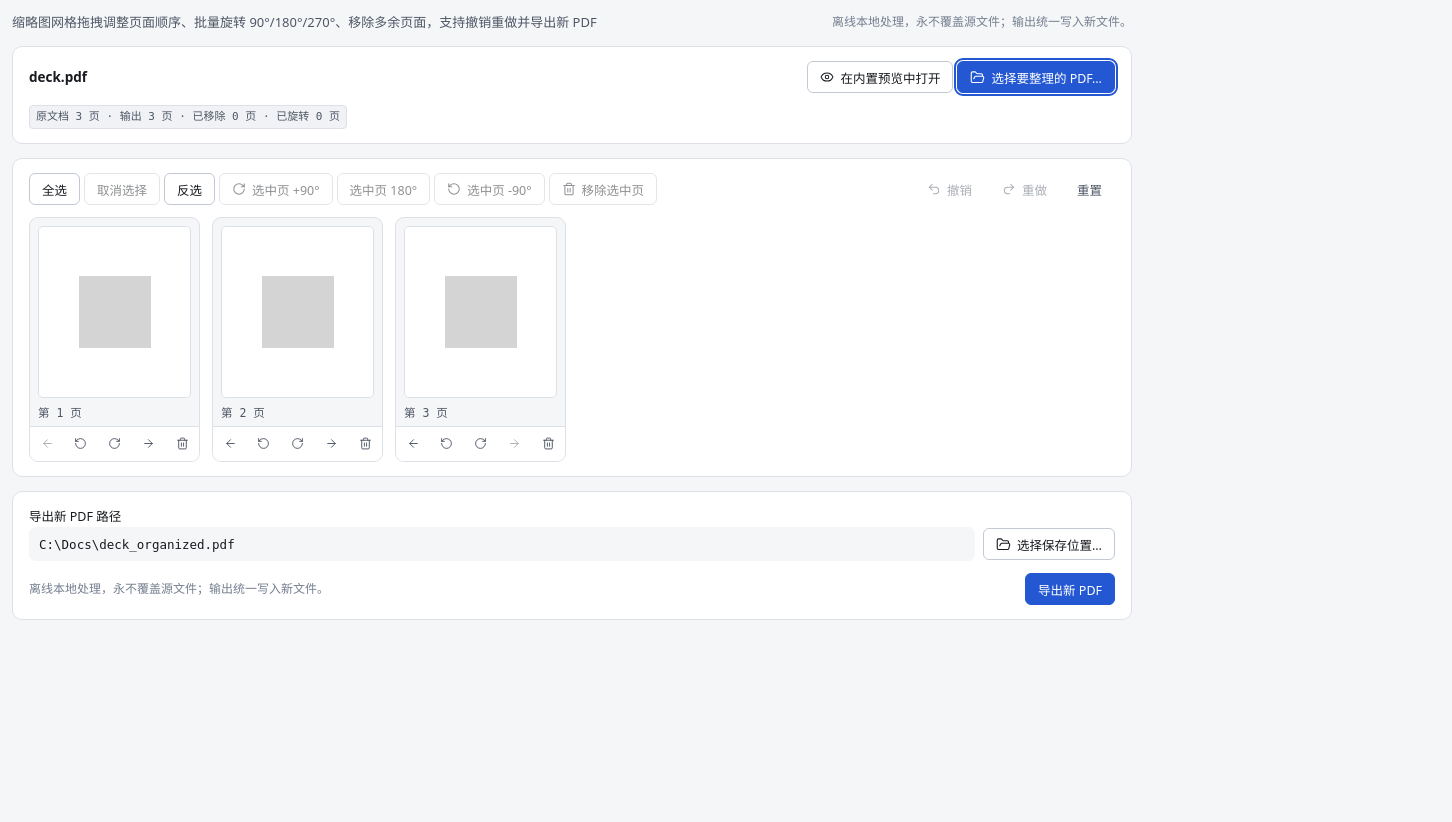
Test case: P09 PdfOrganizeWorkspace › loads pages into grid, reorders/rotates/deletes with undo/redo, and exports organized PDF
The width and height of the screenshot is (1452, 822).
Earlier steps of the test are not shown.
Expected: the list with test id "pdf-page-grid" is shown, [29, 217, 566, 462]
Move page 1 right (so order becomes [2, 1, 3]) and rotate first item +90°, delete last item
What coordinates should you click on to do the following:
click the 1st button named "后移一页"
I would click on:
 (148, 443)
Its box is [135, 430, 161, 456].
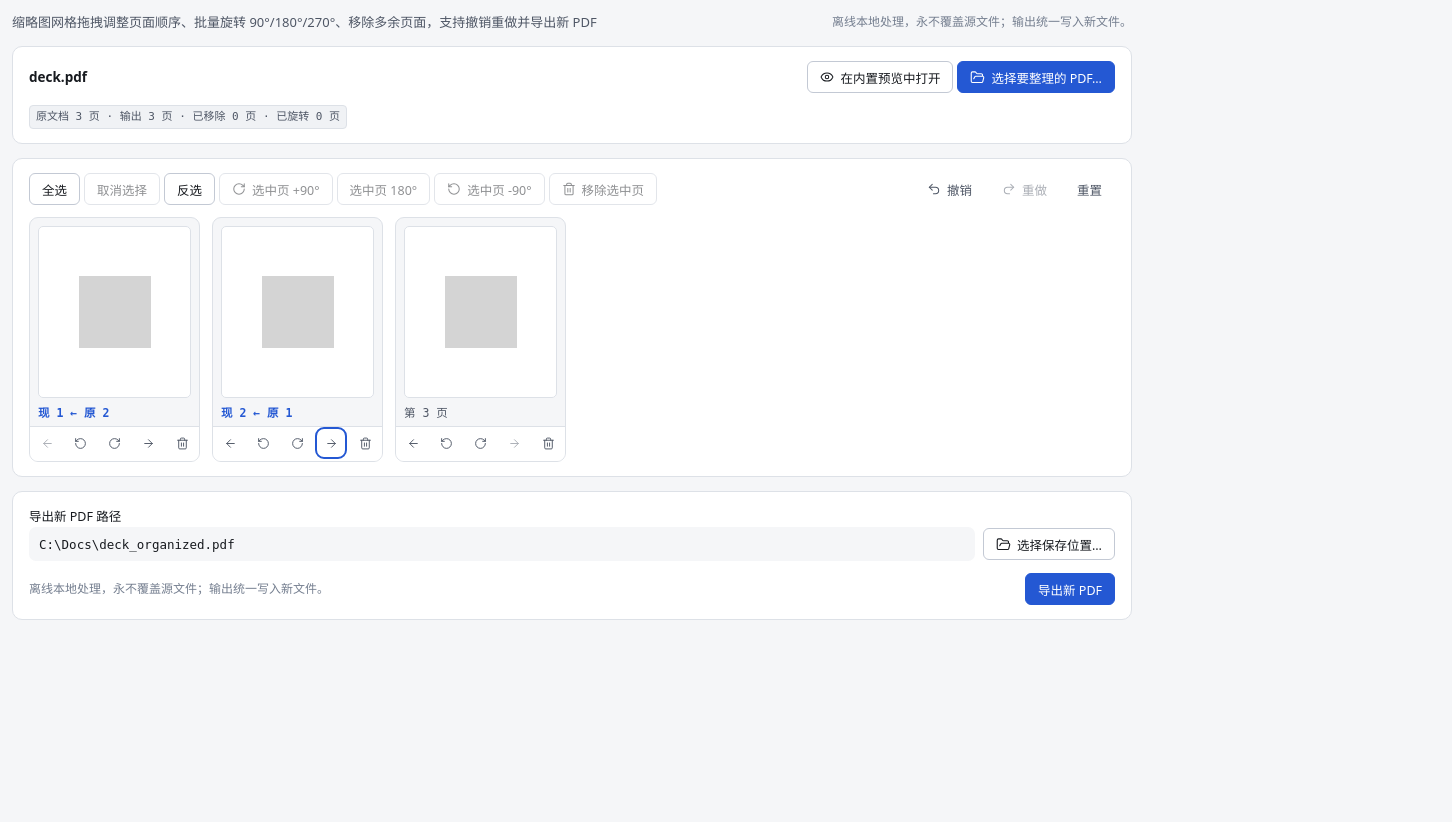
Result: the text "现 1 ← 原 2" is shown at [38, 404, 110, 420]
Undo and redo
What coordinates should you click on to do the following:
click the button "撤销"
I would click on:
 (950, 189)
Its box is [914, 173, 985, 205].
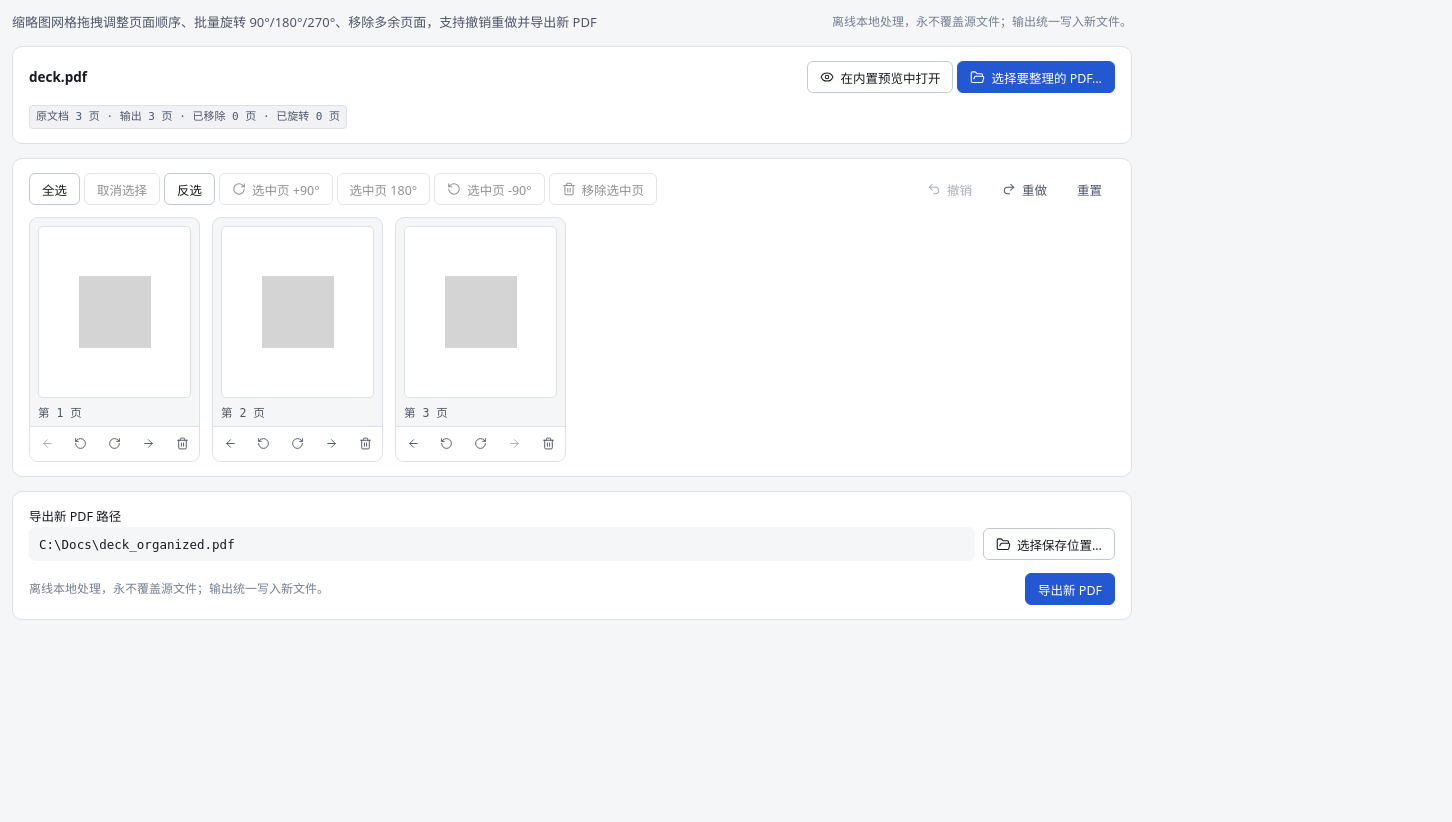
Result: the button "现 1 ← 原 2" is gone
What coordinates should you click on to do the following:
click the button "重做"
I would click on:
 (1024, 189)
Its box is [989, 173, 1060, 205].
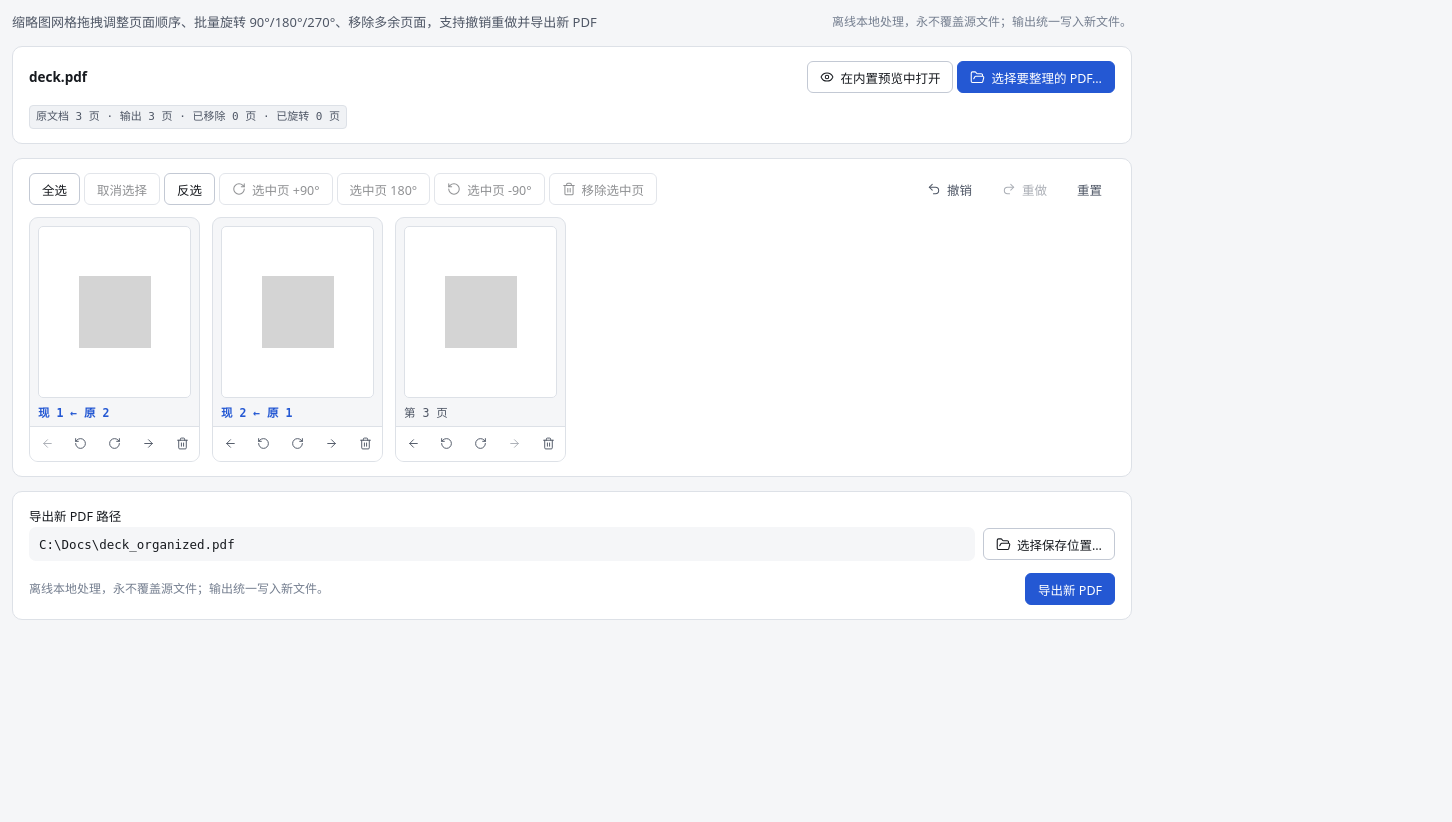
Result: the text "现 1 ← 原 2" is shown at [38, 404, 110, 420]
What coordinates should you click on to do the following:
click the 1st button named "顺时针旋转 90°"
I would click on:
 (114, 443)
Its box is [102, 430, 128, 456].
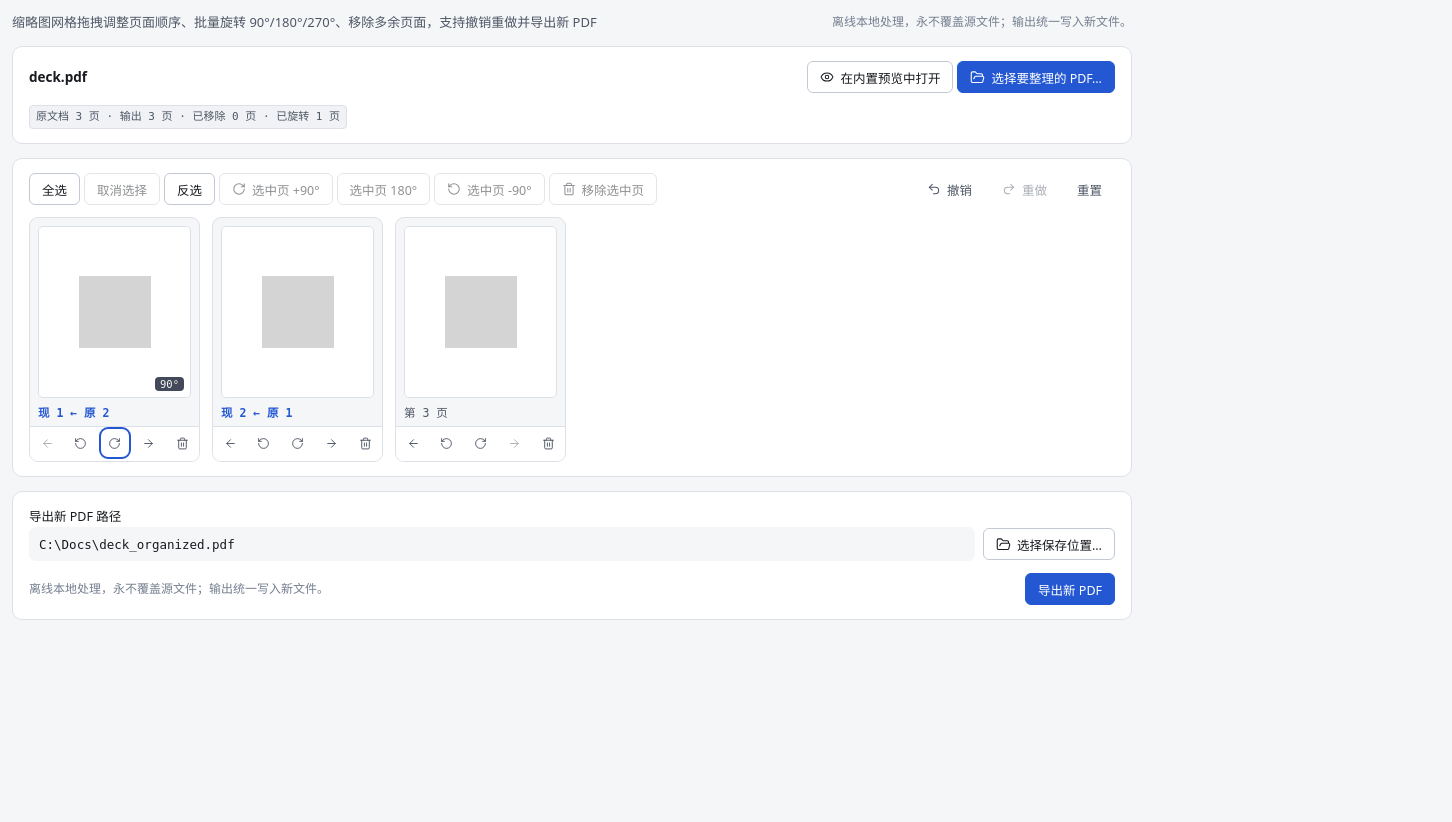
What coordinates should you click on to do the following:
click the 3rd button named "移除此页"
I would click on:
 (548, 443)
Its box is [535, 430, 561, 456].
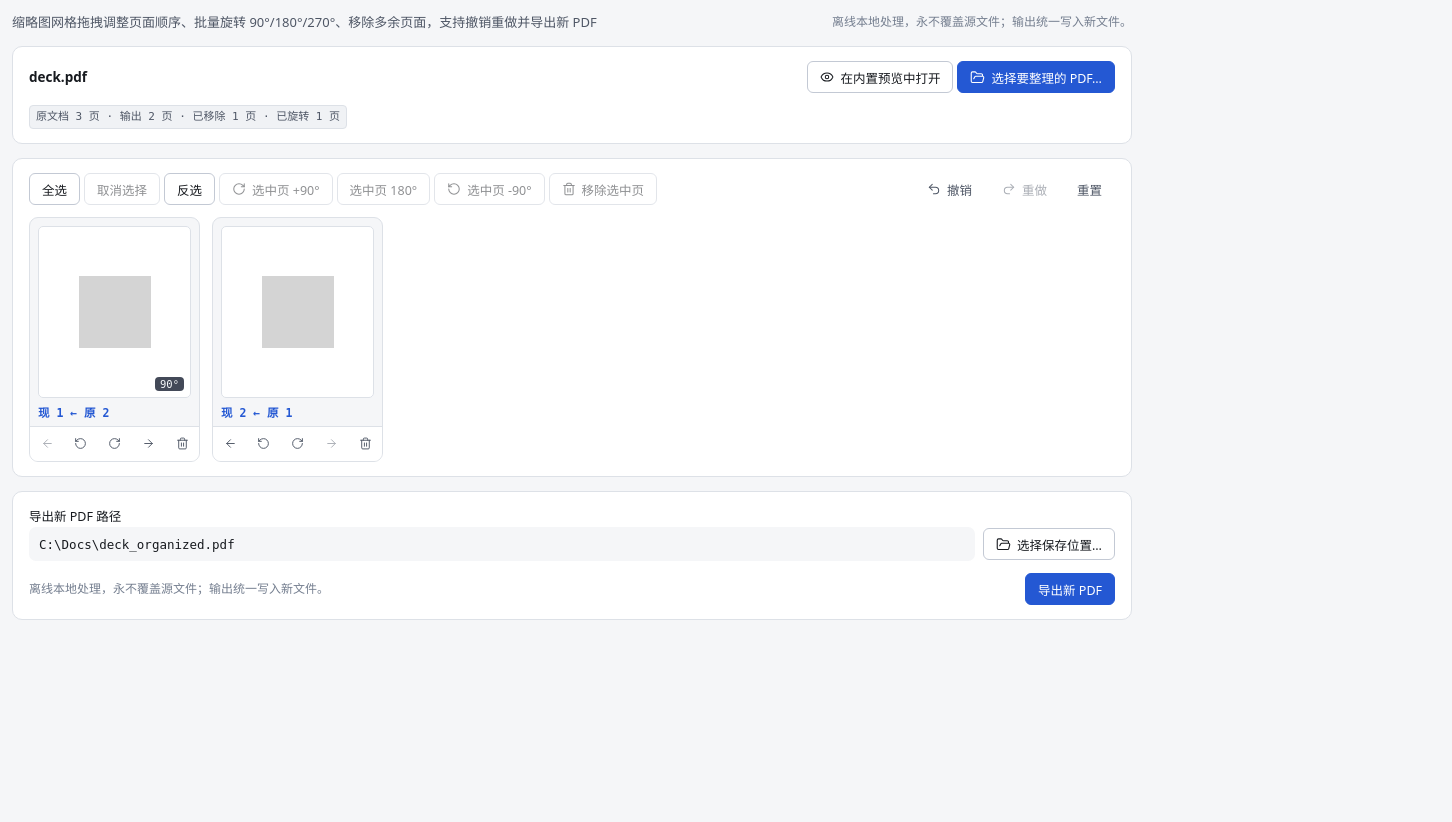
What coordinates should you click on to do the following:
click the button "导出新 PDF"
I would click on:
 (1070, 589)
Its box is [1025, 573, 1115, 605].
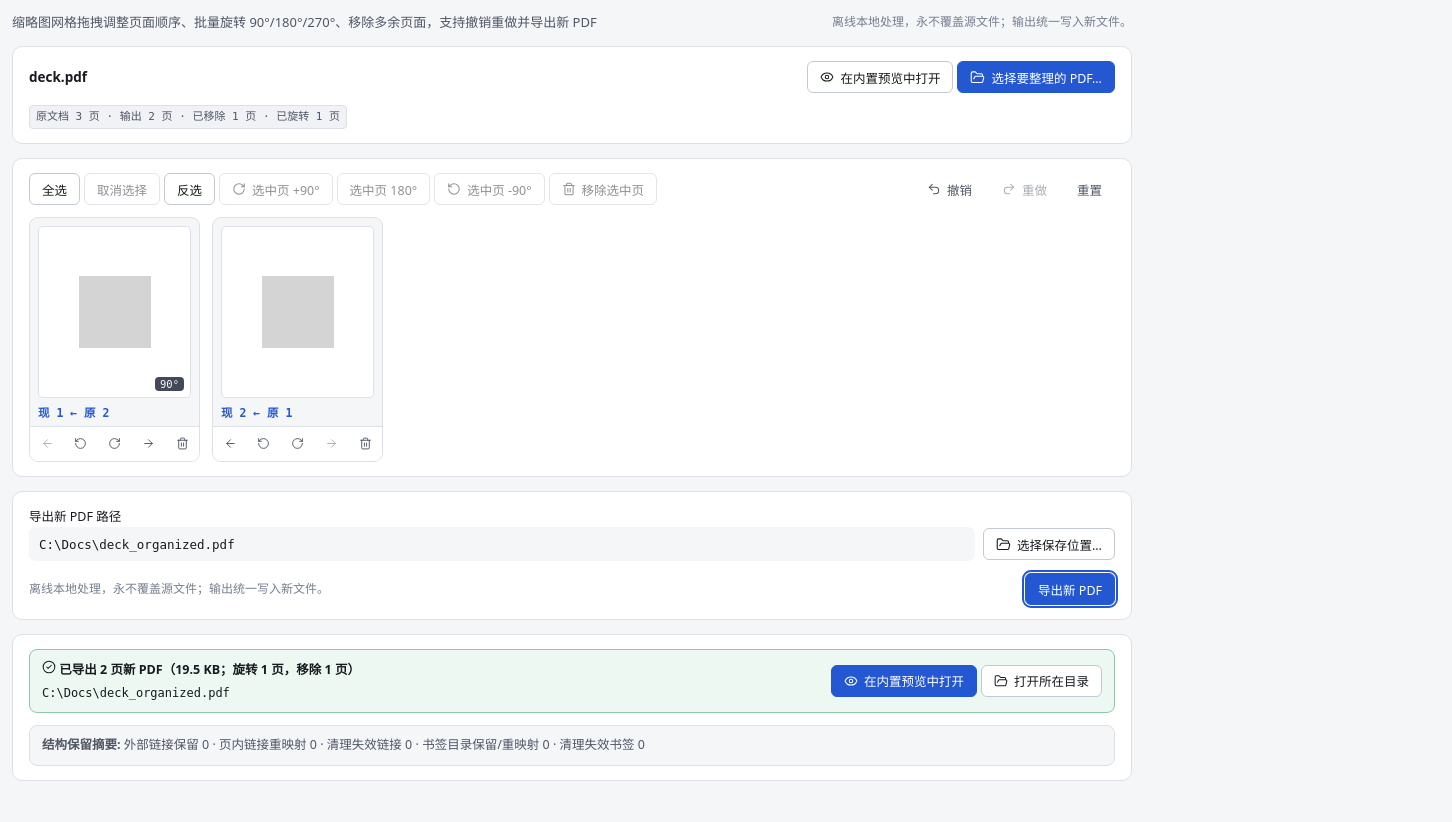
Result: the element with test id "pdf-organize-result" is shown at [12, 634, 1132, 780]
